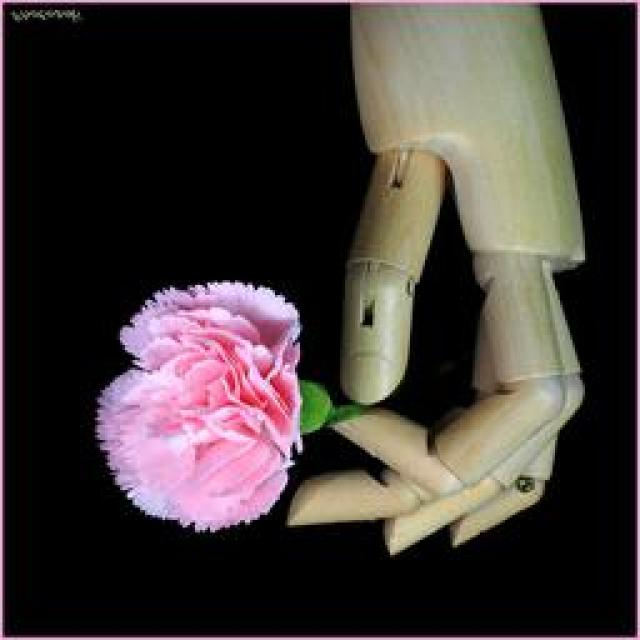carnation: (88, 279, 310, 536)
